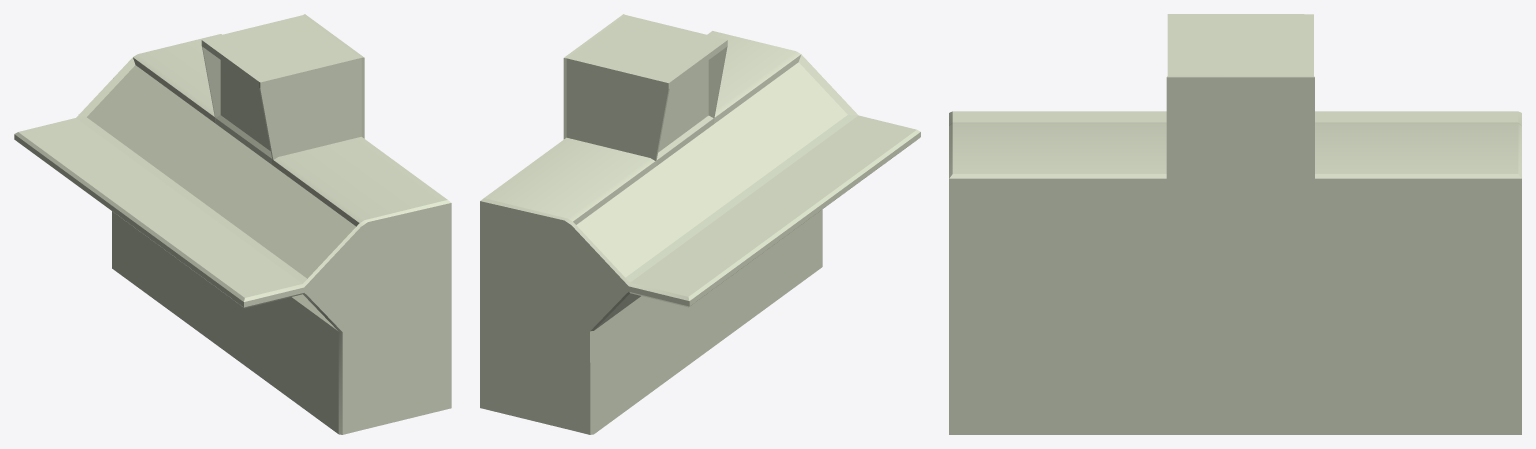
File: OB_Desk Small .FBX
The picture shows the model from 3 angles, left to right: view 1: azimuth 30°, elevation 25°; view 2: azimuth 150°, elevation 25°; view 3: azimuth 270°, elevation 25°; orthographic projection. The views are drawn at different scales.
Visible parts, largest first — view 1: Desk 1 comp; view 2: Desk 1 comp; view 3: Desk 1 comp.
Boxes of the visible parts, bbox=[...] form: Desk 1 comp: bbox=[14, 14, 451, 434]; Desk 1 comp: bbox=[480, 14, 920, 434]; Desk 1 comp: bbox=[949, 14, 1521, 434].
Size of the model in its own units: 134 by 177 by 257.
